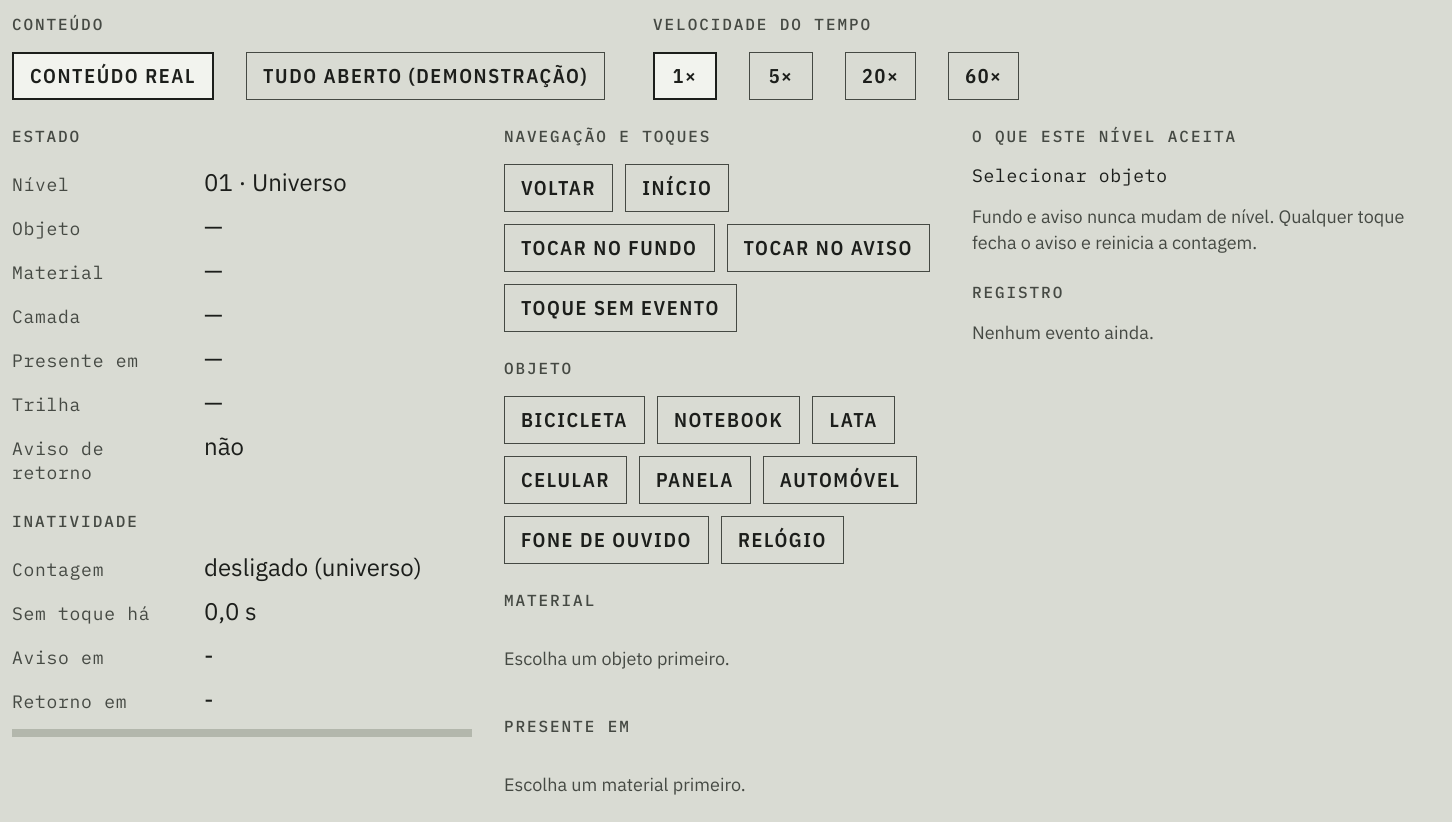
Scenario: ExperienceTab › marks a disabled material and ignores it
Click the button "Notebook" at (729, 420), box [657,396,800,444]
(page scrolled)
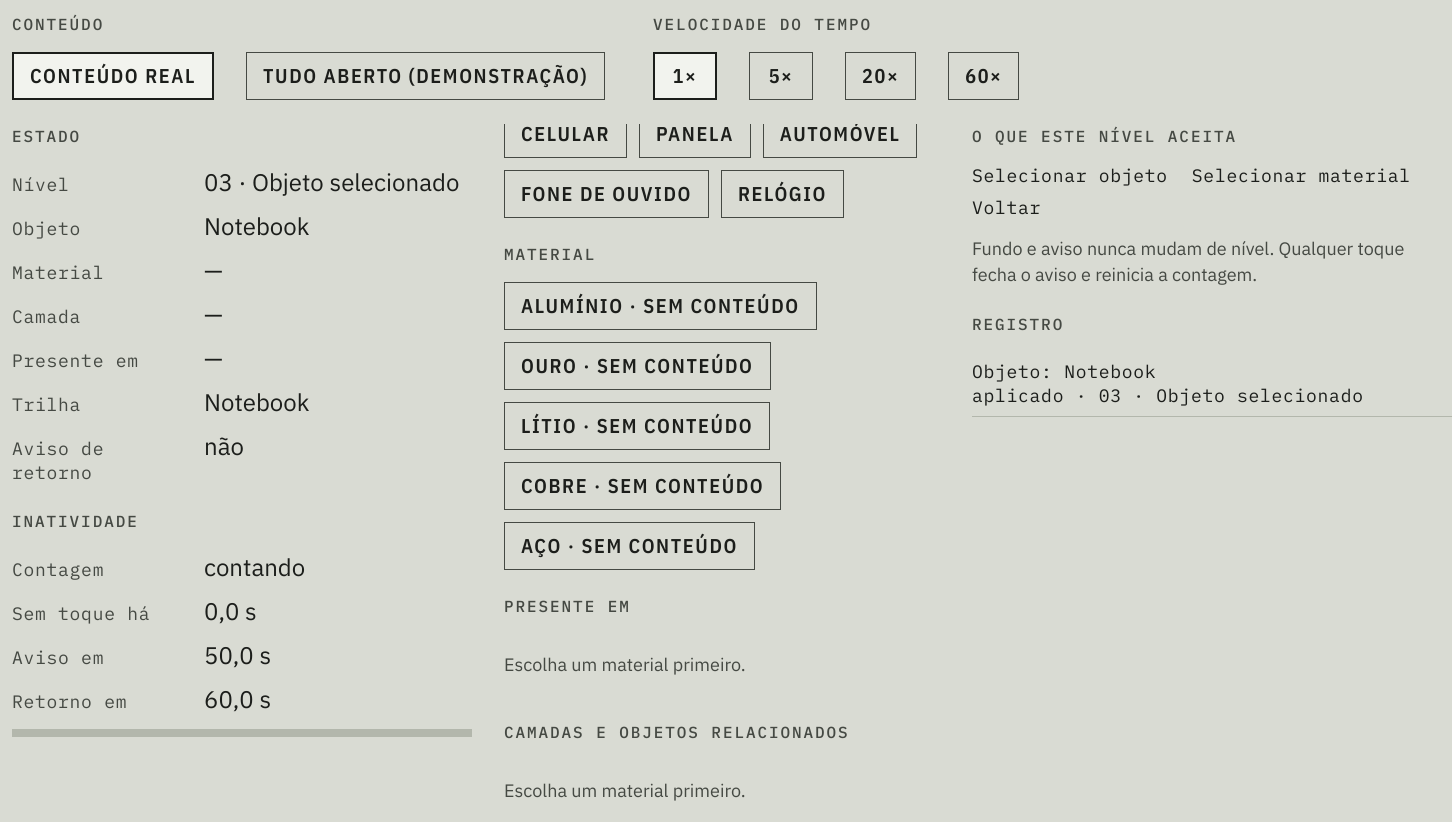
Click the button "Aço · sem conteúdo" at (629, 546), box [504,522,755,570]
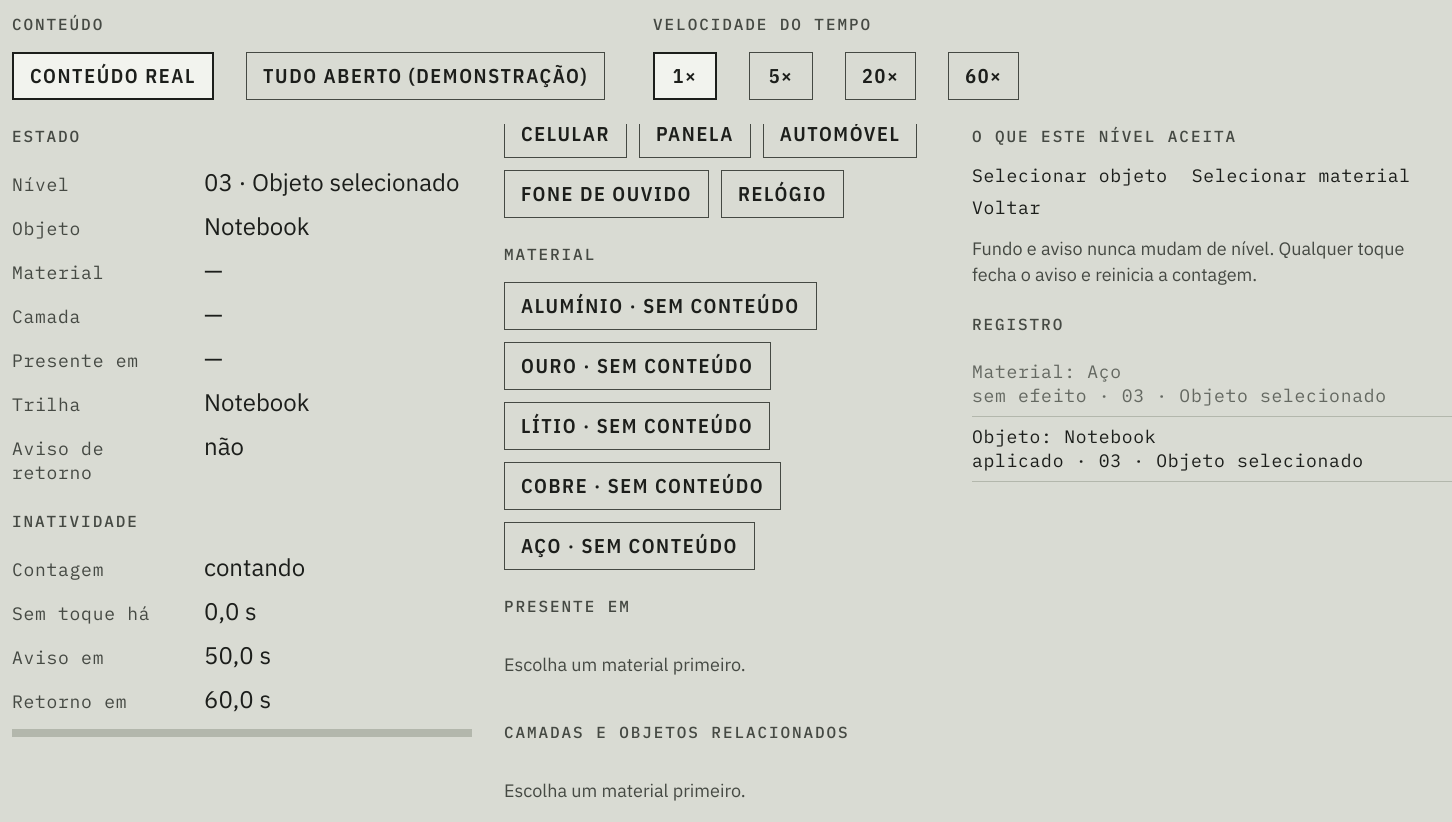
expect the list item with test id "experience-log-entry" shows "sem efeito": met, box [972,384,1387,407]
